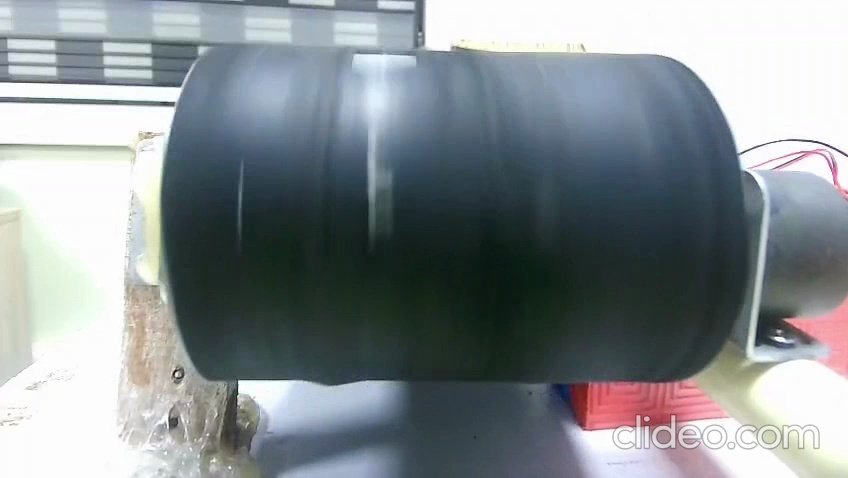hole: (340, 44, 443, 89)
tear: (361, 122, 385, 264), (235, 148, 246, 252)
